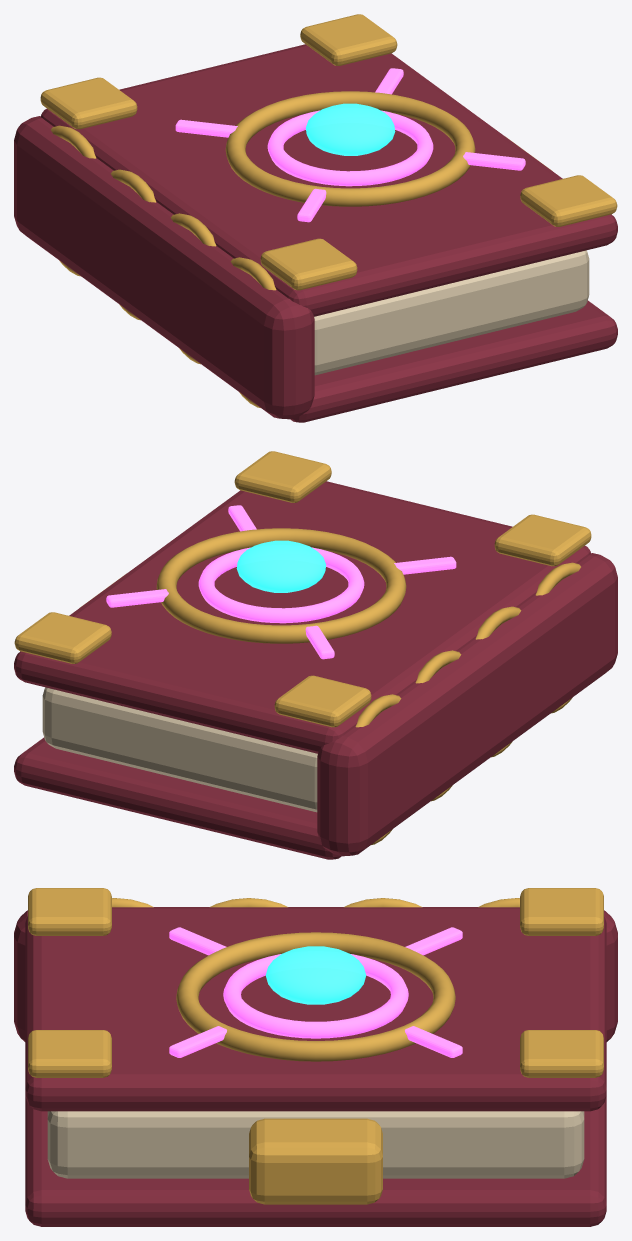
The model's file is magic_grimoire.glb.
3 renders of one model, top to bottom at view 1: azimuth 30°, elevation 25°; view 2: azimuth 150°, elevation 25°; view 3: azimuth 270°, elevation 25°, orthographic. The views are drawn at different scales.
Parts seen in each view (by area): view 1: Grimoire_FrontCover, Grimoire_Spine, Grimoire_PageBlock, Grimoire_BackCover, Grimoire_CoverRuneOuter, Grimoire_CoverRuneInner, Grimoire_CentreGem, Grimoire_CornerGuard_1, Grimoire_CornerGuard_4, Grimoire_CornerGuard_2, Grimoire_CornerGuard_3, Grimoire_RuneRay_4 (+6 smaller); view 2: Grimoire_FrontCover, Grimoire_Spine, Grimoire_PageBlock, Grimoire_BackCover, Grimoire_CoverRuneOuter, Grimoire_CoverRuneInner, Grimoire_CentreGem, Grimoire_CornerGuard_3, Grimoire_CornerGuard_2, Grimoire_CornerGuard_1, Grimoire_CornerGuard_4, Grimoire_RuneRay_1 (+6 smaller); view 3: Grimoire_FrontCover, Grimoire_PageBlock, Grimoire_BackCover, Grimoire_CoverRuneOuter, Grimoire_Clasp, Grimoire_CoverRuneInner, Grimoire_CentreGem, Grimoire_CornerGuard_1, Grimoire_CornerGuard_3, Grimoire_CornerGuard_2, Grimoire_CornerGuard_4, Grimoire_Spine (+6 smaller).
Part boxes in pixels (x1=…): Grimoire_FrontCover: x1=41, y1=44, x2=617, y2=316; Grimoire_Spine: x1=14, y1=116, x2=314, y2=419; Grimoire_PageBlock: x1=314, y1=250, x2=589, y2=375; Grimoire_BackCover: x1=290, y1=300, x2=617, y2=422; Grimoire_CoverRuneOuter: x1=225, y1=91, x2=475, y2=206; Grimoire_CoverRuneInner: x1=267, y1=110, x2=433, y2=186; Grimoire_CentreGem: x1=306, y1=103, x2=395, y2=155; Grimoire_CornerGuard_1: x1=260, y1=238, x2=357, y2=290; Grimoire_CornerGuard_4: x1=300, y1=14, x2=397, y2=65; Grimoire_CornerGuard_2: x1=520, y1=175, x2=617, y2=226; Grimoire_CornerGuard_3: x1=40, y1=77, x2=137, y2=129; Grimoire_RuneRay_4: x1=463, y1=152, x2=525, y2=170; Grimoire_FrontCover: x1=14, y1=481, x2=590, y2=753; Grimoire_Spine: x1=317, y1=553, x2=617, y2=856; Grimoire_PageBlock: x1=42, y1=687, x2=317, y2=812; Grimoire_BackCover: x1=14, y1=737, x2=341, y2=859; Grimoire_CoverRuneOuter: x1=156, y1=528, x2=406, y2=643; Grimoire_CoverRuneInner: x1=198, y1=547, x2=364, y2=623; Grimoire_CentreGem: x1=236, y1=540, x2=325, y2=592; Grimoire_CornerGuard_3: x1=274, y1=675, x2=371, y2=727; Grimoire_CornerGuard_2: x1=234, y1=451, x2=331, y2=502; Grimoire_CornerGuard_1: x1=494, y1=514, x2=591, y2=566; Grimoire_CornerGuard_4: x1=14, y1=612, x2=111, y2=663; Grimoire_RuneRay_1: x1=106, y1=589, x2=168, y2=607; Grimoire_FrontCover: x1=25, y1=907, x2=606, y2=1111; Grimoire_PageBlock: x1=47, y1=1111, x2=584, y2=1178; Grimoire_BackCover: x1=25, y1=1096, x2=606, y2=1226; Grimoire_CoverRuneOuter: x1=176, y1=932, x2=455, y2=1061; Grimoire_Clasp: x1=249, y1=1118, x2=382, y2=1204; Grimoire_CoverRuneInner: x1=223, y1=954, x2=408, y2=1038; Grimoire_CentreGem: x1=265, y1=946, x2=366, y2=1004; Grimoire_CornerGuard_1: x1=28, y1=888, x2=111, y2=935; Grimoire_CornerGuard_3: x1=520, y1=888, x2=603, y2=935; Grimoire_CornerGuard_2: x1=28, y1=1030, x2=111, y2=1077; Grimoire_CornerGuard_4: x1=520, y1=1030, x2=603, y2=1077; Grimoire_Spine: x1=14, y1=907, x2=617, y2=1041.
Size of the model in its own units: 0.455 by 0.2002 by 0.54.
